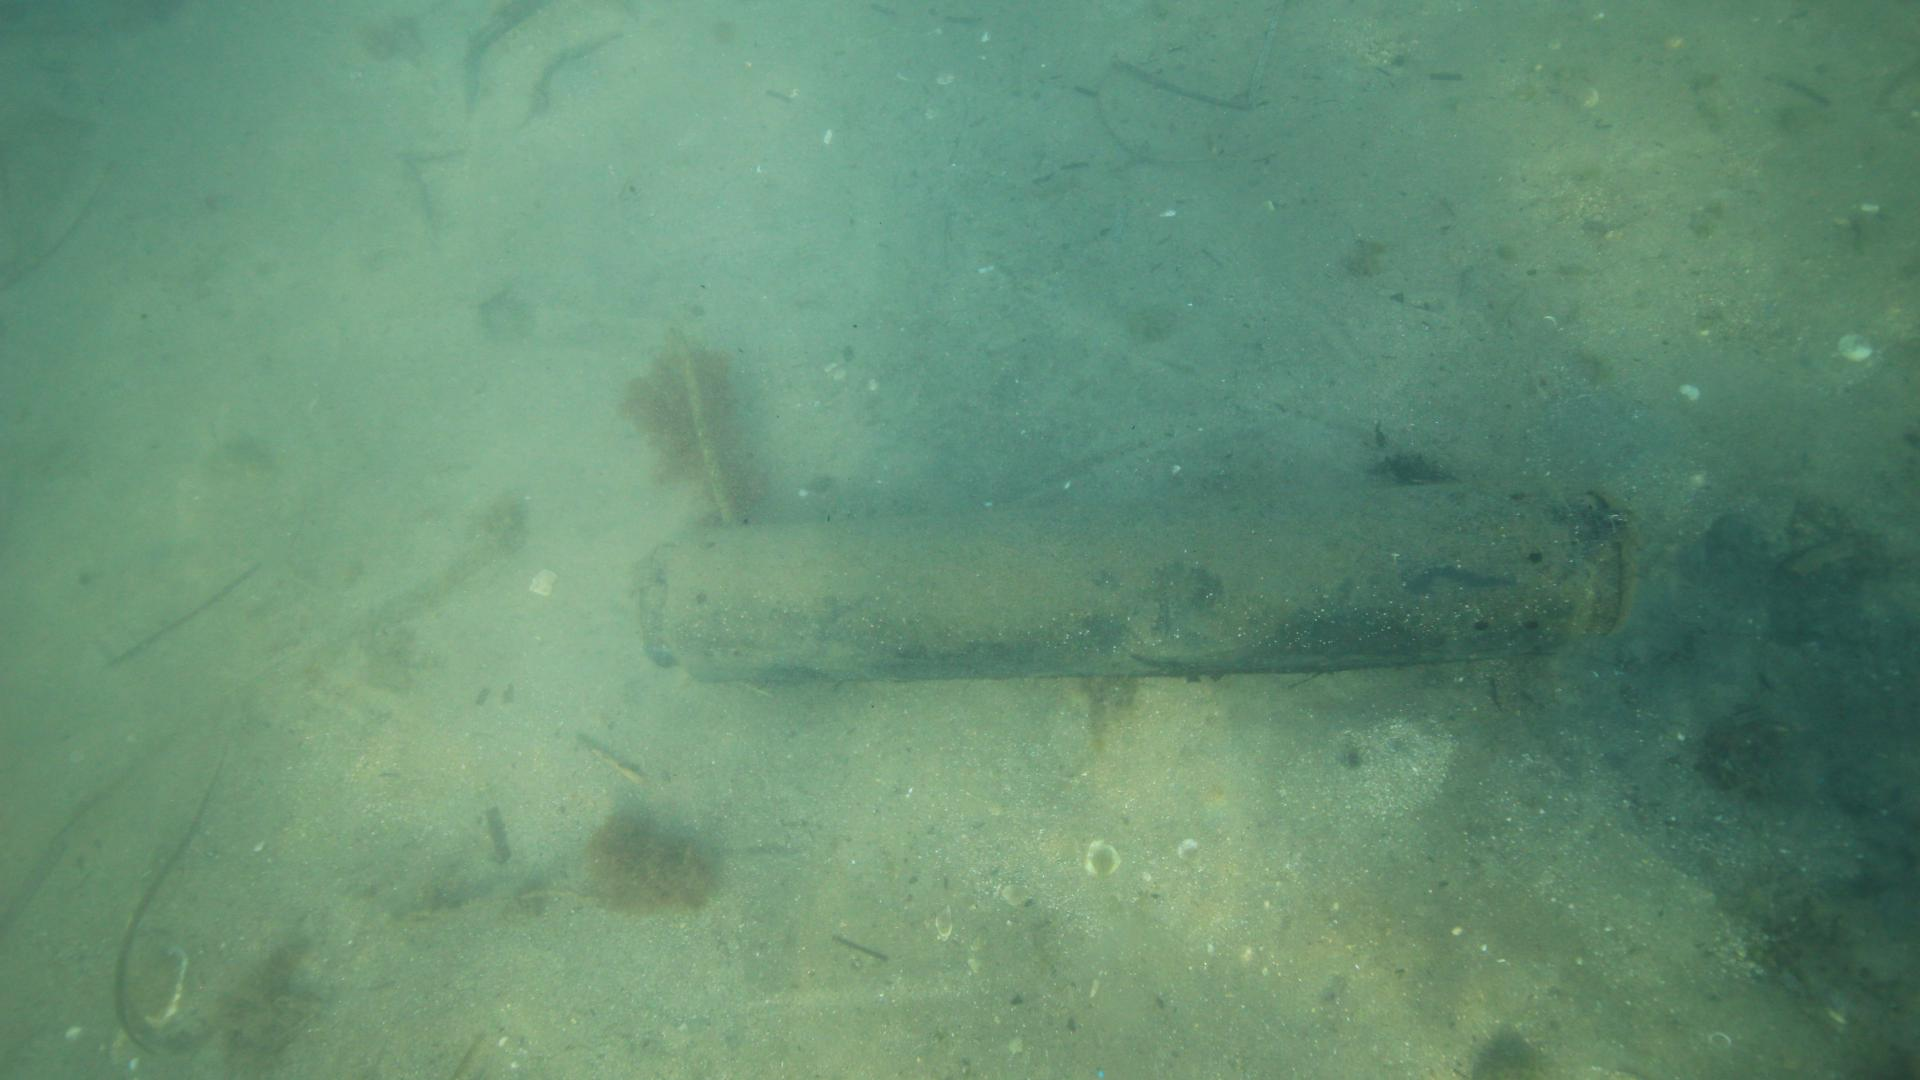eel fish trap: (630, 500, 1642, 688)
